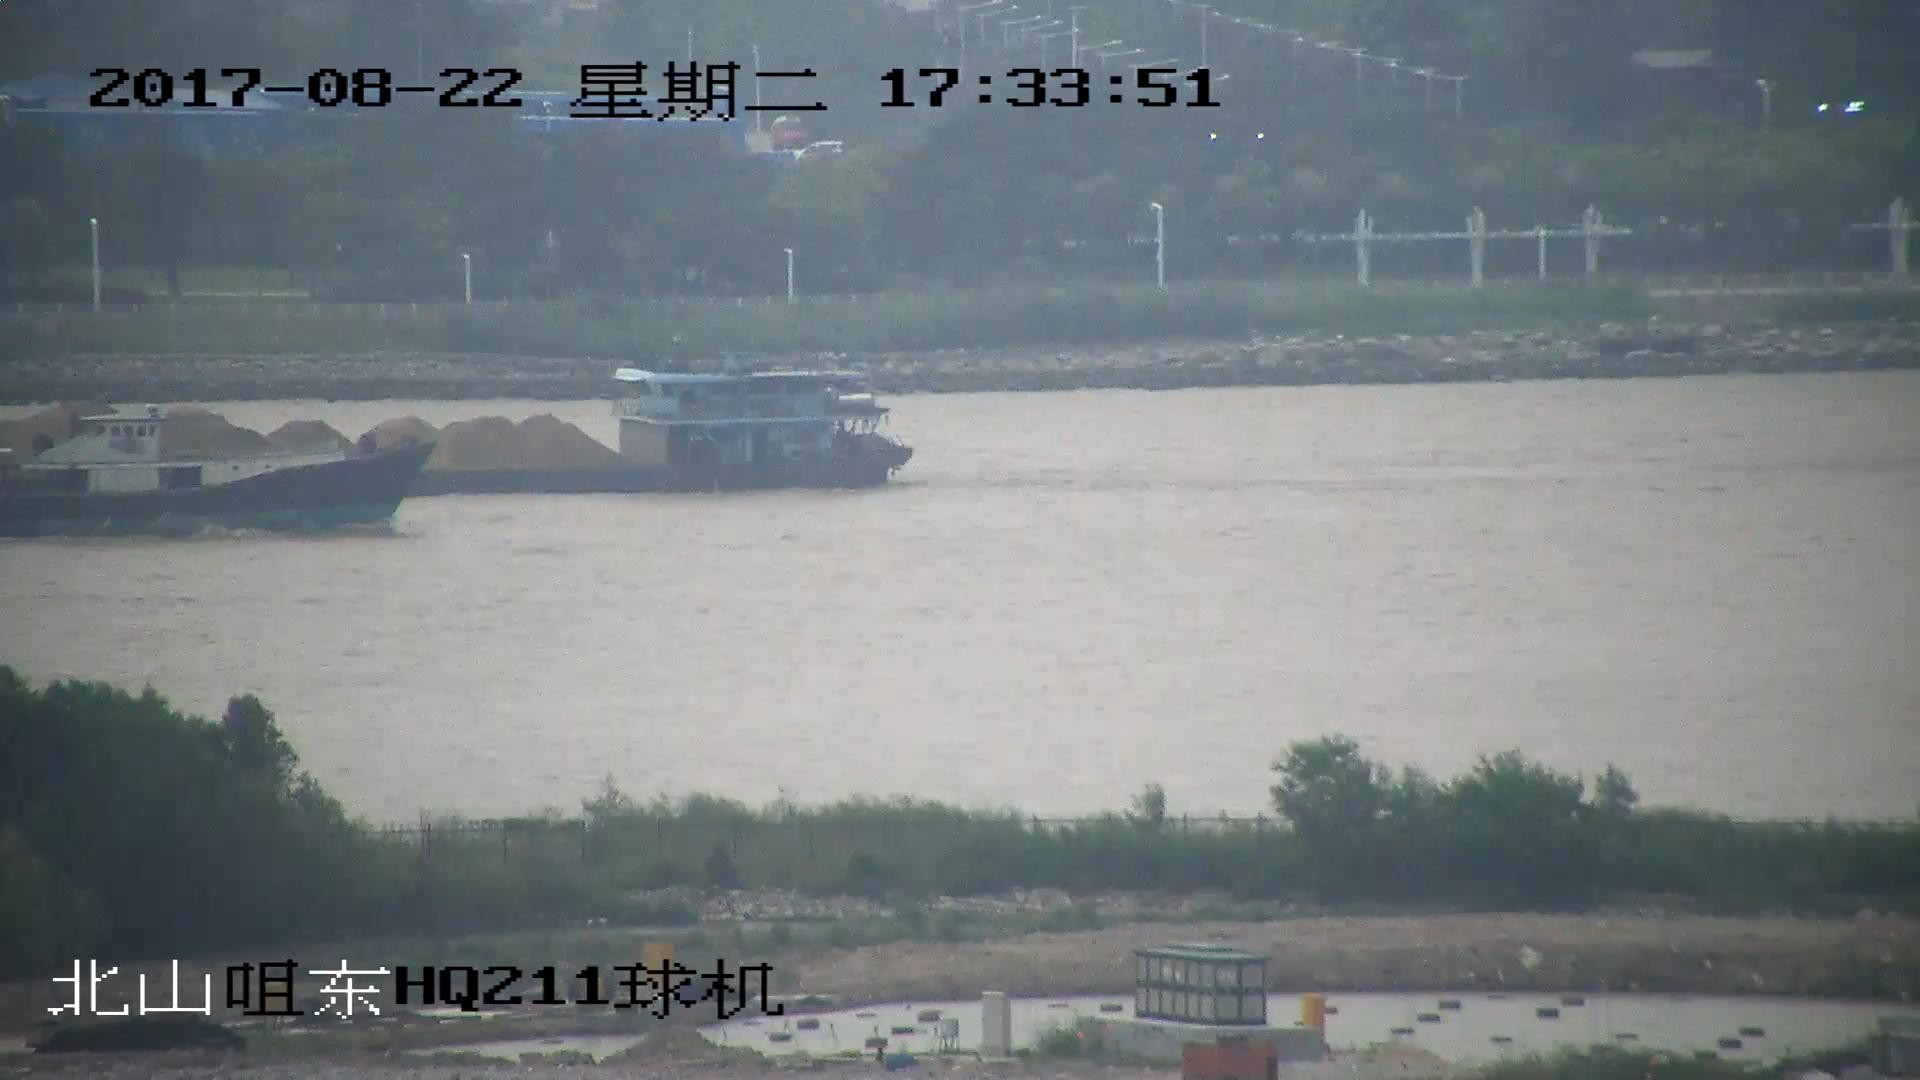fishing boat: (1, 414, 433, 537)
ore carrier: (1, 361, 919, 495)
